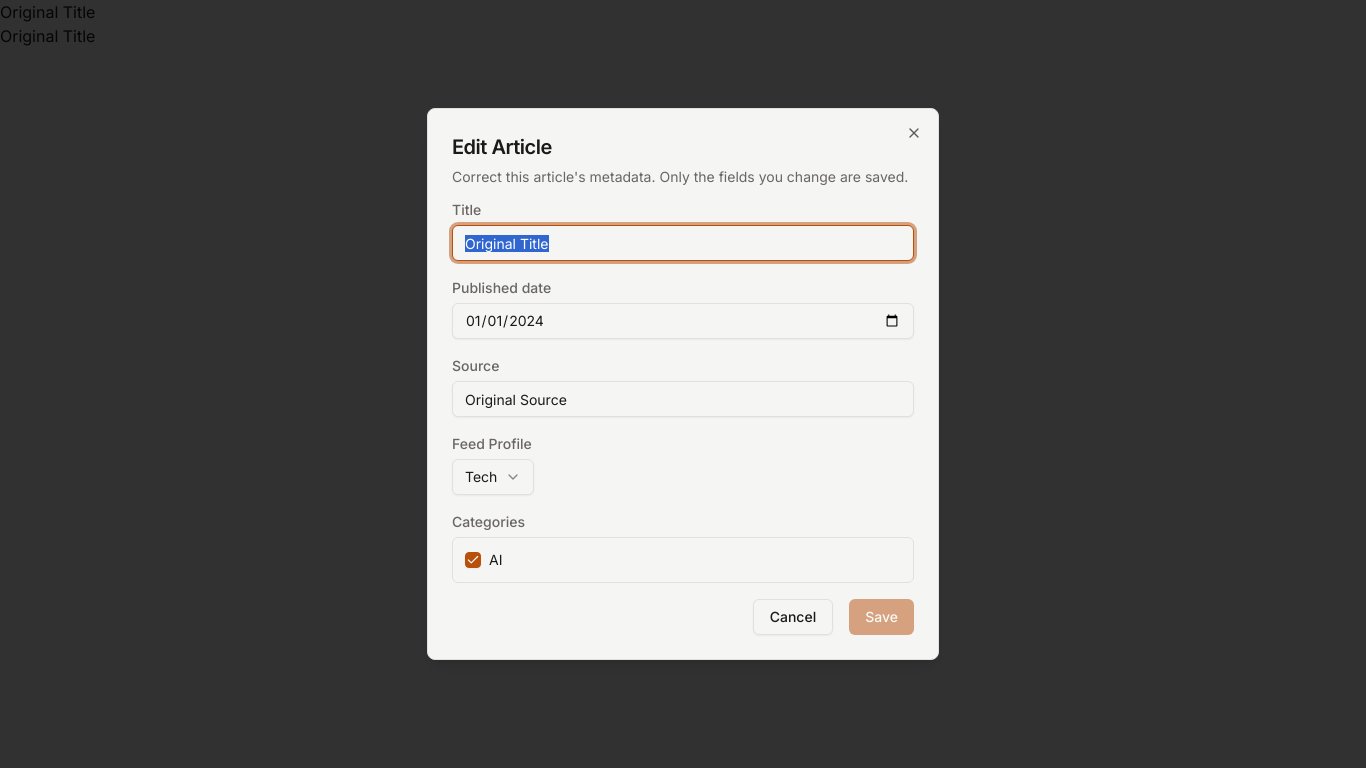
Scenario: useUpdateArticle cache propagation › shows the edited title on the bookmarks list and the detail view without a refetch
expect the heading "Original Title" is shown: met, box 0,26 -> 95,46
expect the list named "Bookmarks" reads "Original Title": met, box 0,2 -> 95,22
Step 1. Replace the text in the field labelled "Title" with "Fixed Title" → (683, 243), box 452,225 -> 914,261
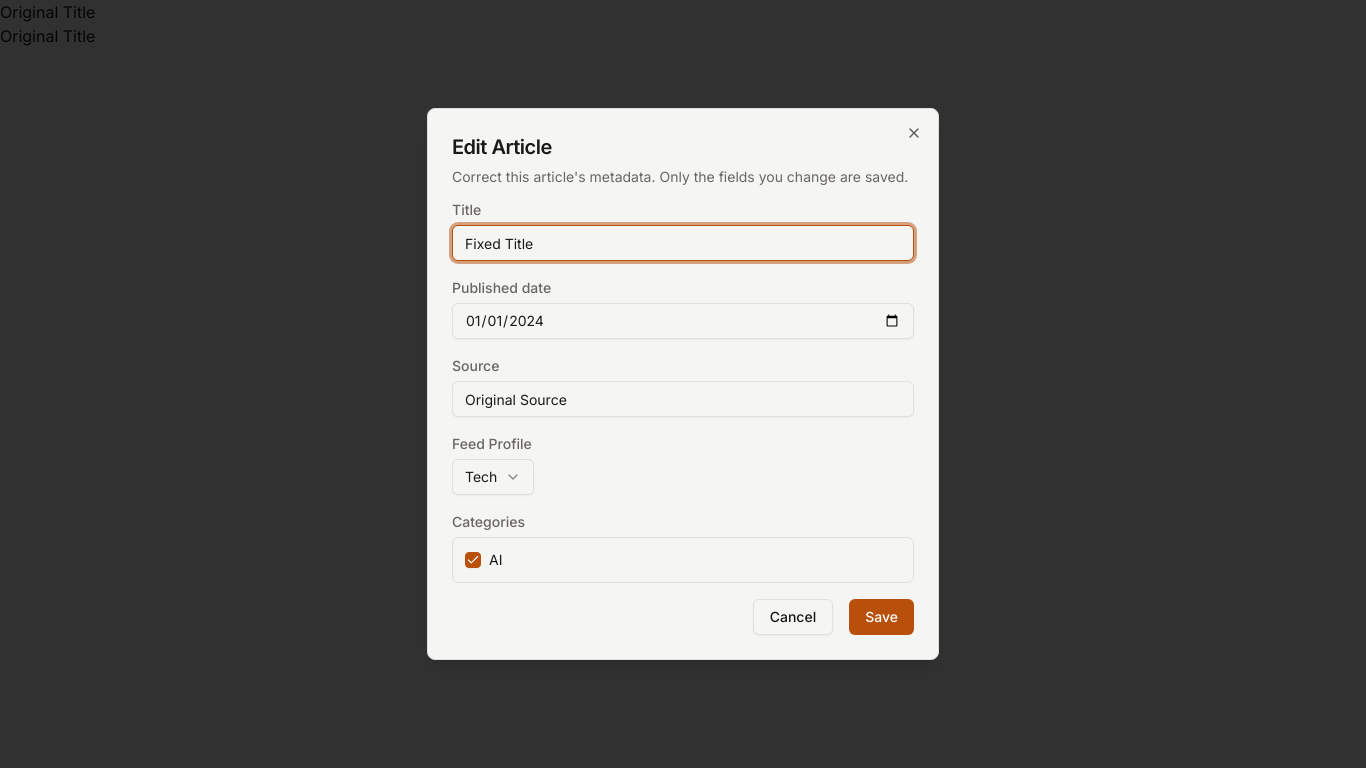
Step 2. Click the button "Save" → (882, 617), box 849,599 -> 914,635
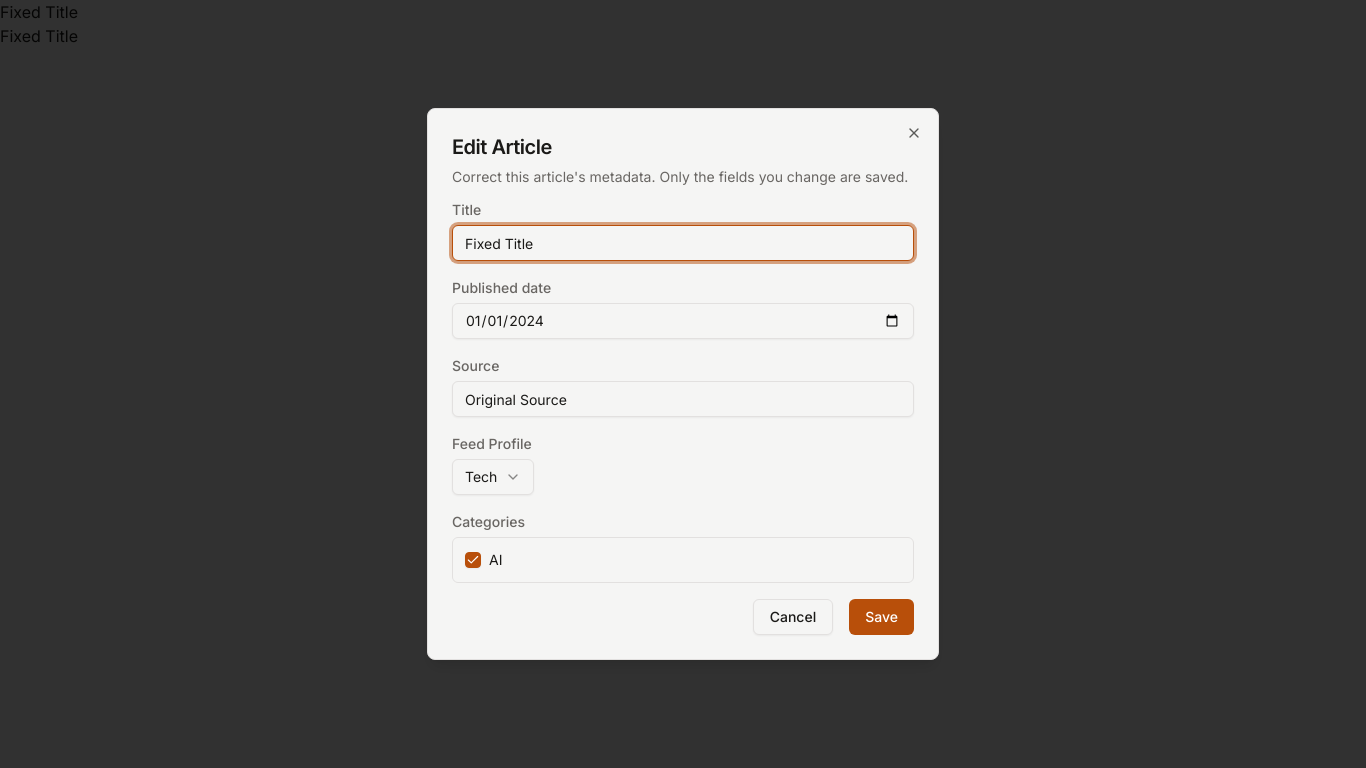
expect the heading "Fixed Title" is shown: met, box 0,26 -> 78,46
expect the list named "Bookmarks" reads "Fixed Title": met, box 0,2 -> 78,22
expect the list named "Bookmarks" no longer shows "Original Title": met, box 0,2 -> 78,22
